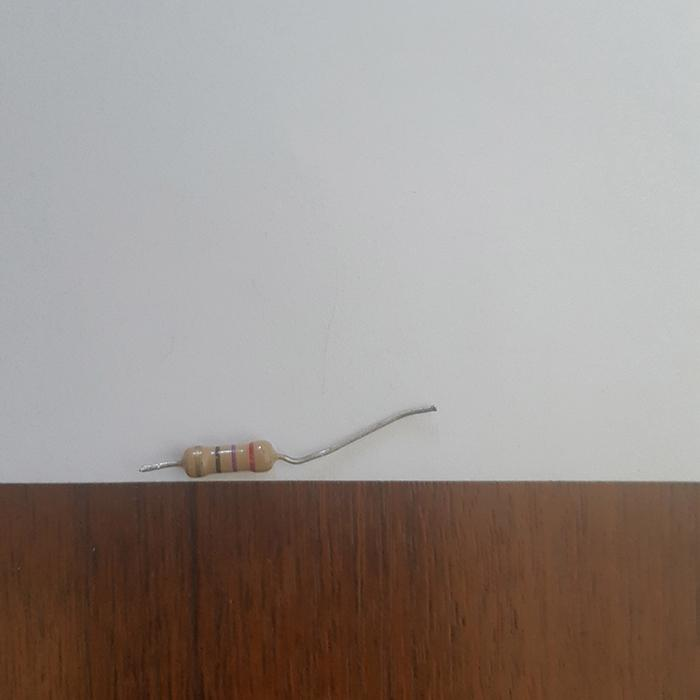resistor: (180, 439, 277, 477)
